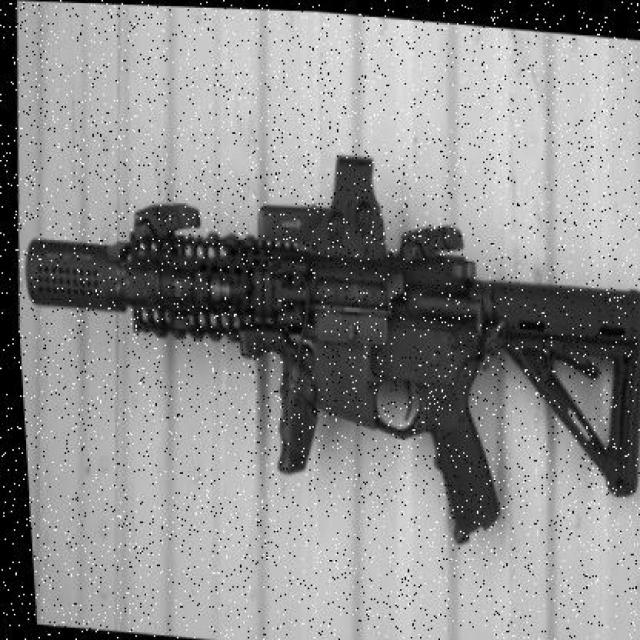weapon: (26, 152, 640, 548)
